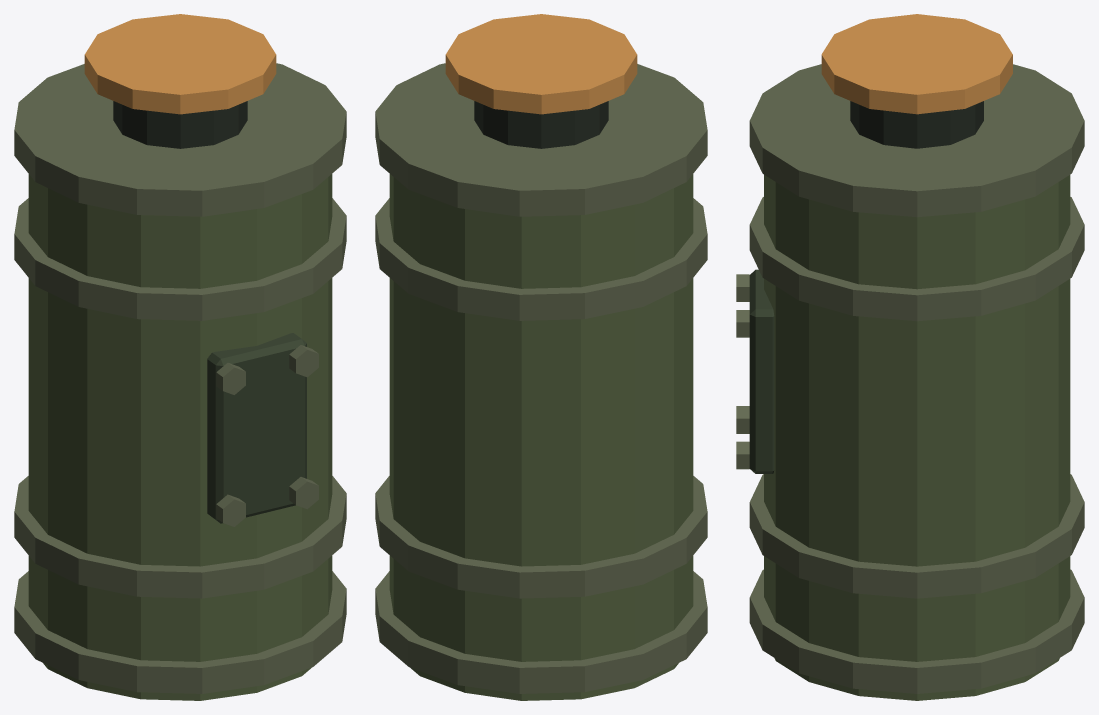
The model's file is loot_fuel_cell.obj.
The picture shows the model from 3 angles, left to right: view 1: azimuth 30°, elevation 25°; view 2: azimuth 150°, elevation 25°; view 3: azimuth 270°, elevation 25°; orthographic projection.
Parts seen in each view (by area): view 1: loot_fuel_cell; view 2: loot_fuel_cell; view 3: loot_fuel_cell.
Part boxes in pixels (x1,y1,x2,y2): loot_fuel_cell: (14,14,346,700); loot_fuel_cell: (375,14,707,700); loot_fuel_cell: (736,14,1084,700).
Bounding box in the file's own units: 0.7 × 1.34 × 0.728.
1 material, 1 textured.
